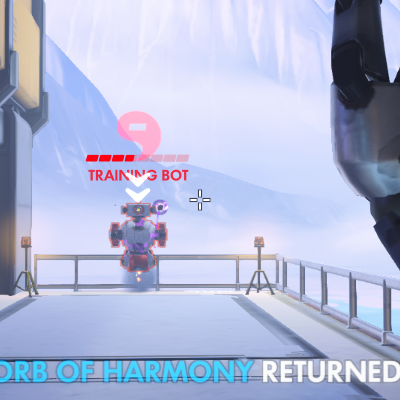hpbar: (85, 154, 190, 163)
